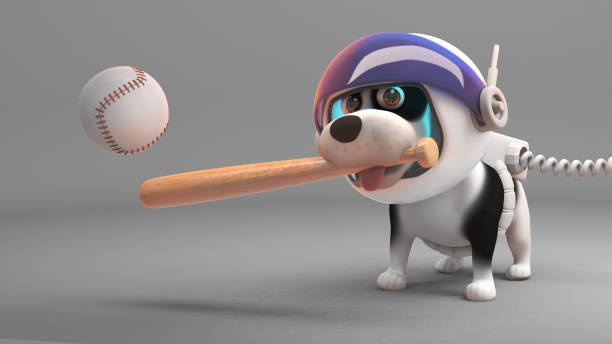bita: (133, 139, 437, 208)
